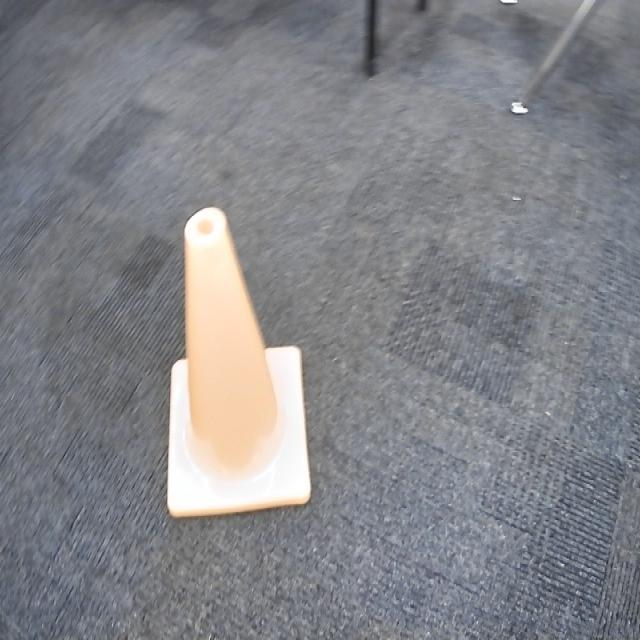cone: (162, 203, 314, 527)
